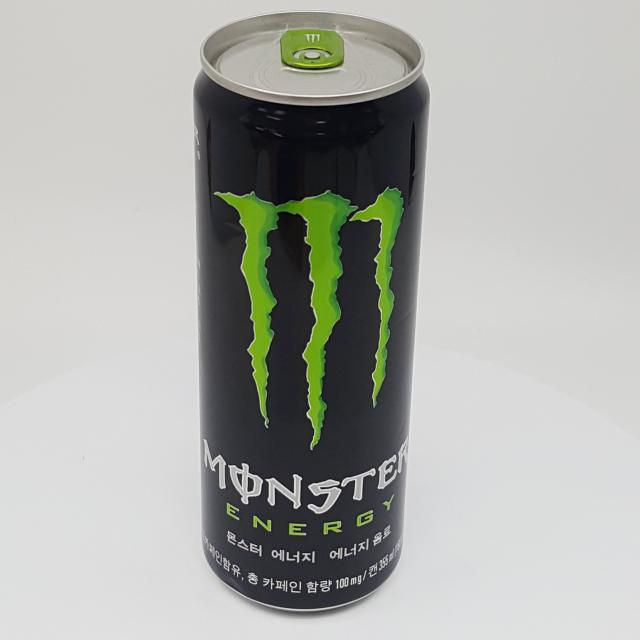--------355ML: (193, 10, 430, 612)
